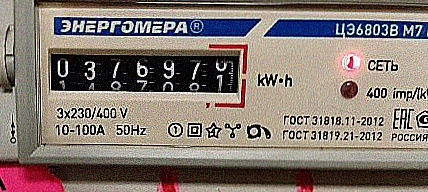0: (55, 56, 69, 78)
1: (213, 72, 225, 92)
3: (82, 58, 97, 81)
6: (134, 54, 149, 77)
7: (107, 55, 122, 78), (188, 57, 202, 80)
9: (160, 56, 175, 79)
screen: (39, 38, 250, 112)
